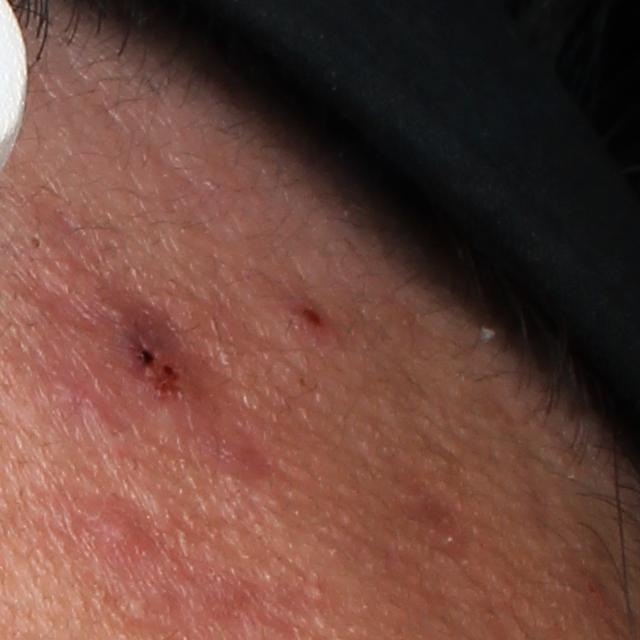comedo: (25, 232, 44, 253)
nodule: (79, 291, 237, 458)
papule: (69, 492, 150, 560), (279, 292, 340, 350)
